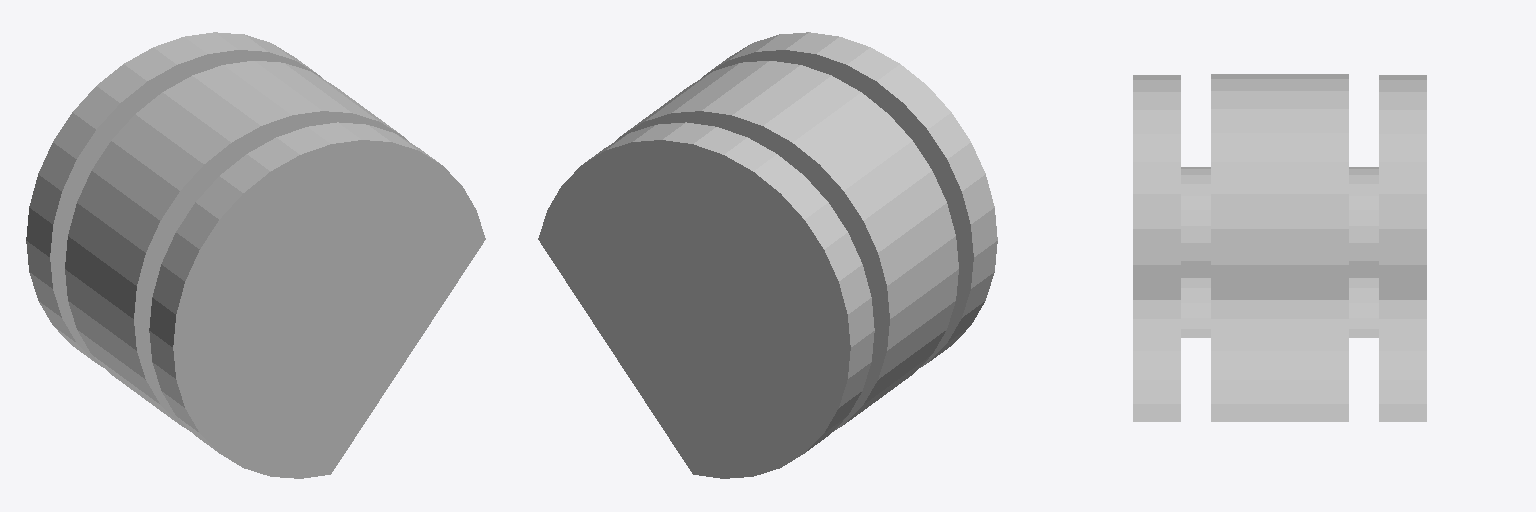
File: ThrottleBase.obj
The picture shows the model from 3 angles: view 1: azimuth 30°, elevation 25°; view 2: azimuth 150°, elevation 25°; view 3: azimuth 270°, elevation 25°; orthographic projection.
Visible parts, largest first — view 1: Throttle_base_Circle.003; view 2: Throttle_base_Circle.003; view 3: Throttle_base_Circle.003.
Boxes of the visible parts, x1,y1,x2,y2 form: Throttle_base_Circle.003: [26, 32, 485, 478]; Throttle_base_Circle.003: [538, 32, 997, 478]; Throttle_base_Circle.003: [1133, 74, 1426, 421].
Size of the model in its own units: 1.13 by 1.14 by 0.9171.